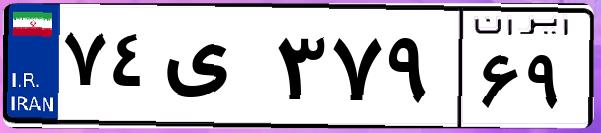3: (270, 28, 330, 110)
4: (110, 28, 158, 98)
6: (475, 38, 525, 113)
7: (330, 28, 385, 110), (57, 26, 110, 100)
9: (385, 28, 445, 110), (525, 38, 570, 115)
ی: (158, 20, 270, 120)
